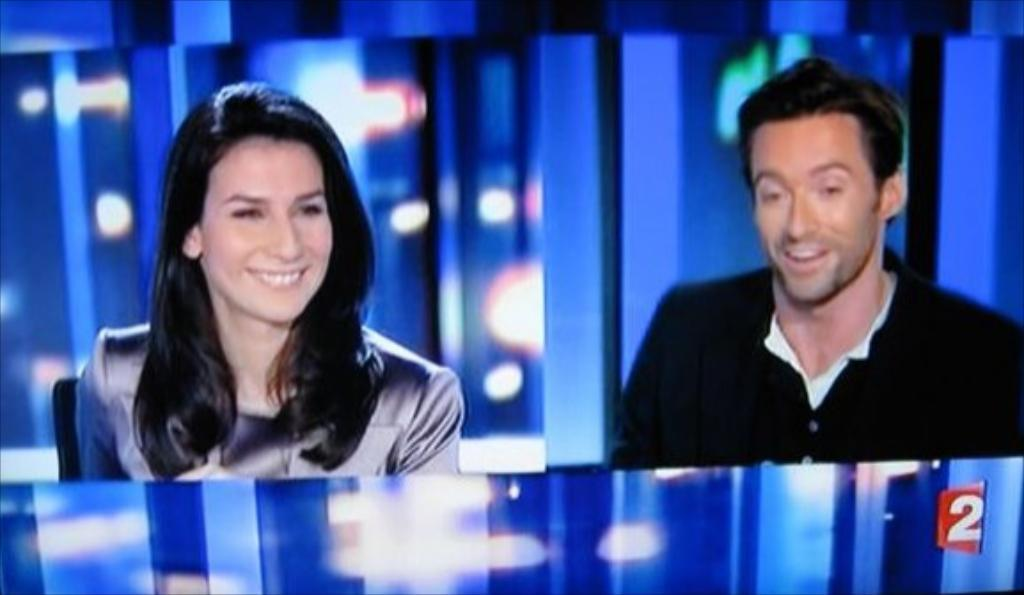Sem Máscara: (197, 135, 330, 323), (750, 108, 878, 301)
